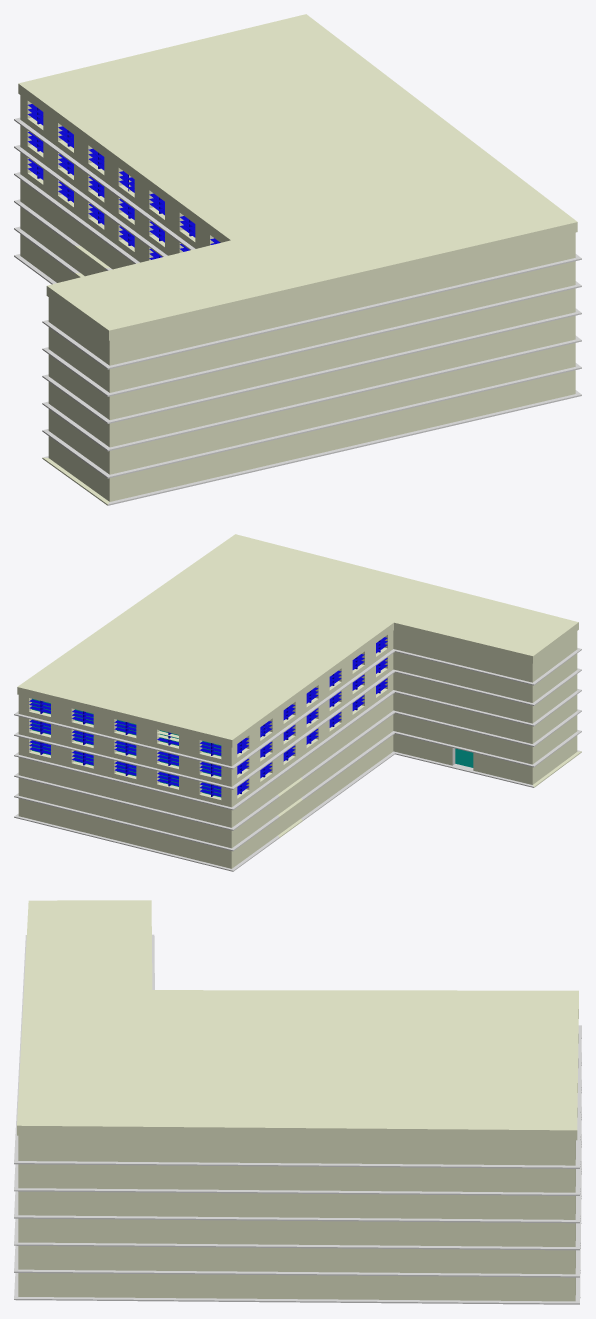
Rendered from Carslaw Building.fbx.
3 views of the same model, one above another, from view 1: azimuth 30°, elevation 25°; view 2: azimuth 150°, elevation 25°; view 3: azimuth 270°, elevation 25° (orthographic). The views are drawn at different scales.
Visible parts, largest first — view 1: Carslaw Building; view 2: Carslaw Building; view 3: Carslaw Building.
Boxes of the visible parts, x1,y1,x2,y2 form: Carslaw Building: (14, 14, 581, 505); Carslaw Building: (14, 534, 581, 871); Carslaw Building: (14, 900, 581, 1304).
Size of the model in its own units: 7684 by 2662 by 7919.
